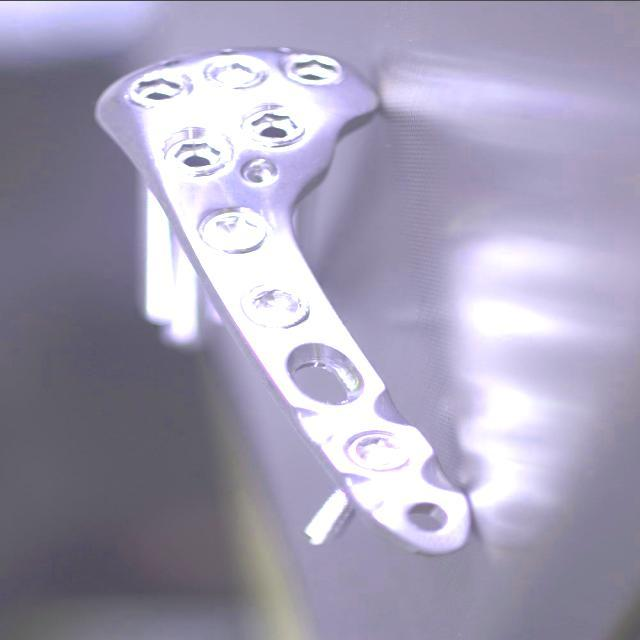Dry Waste: (75, 30, 509, 564)
